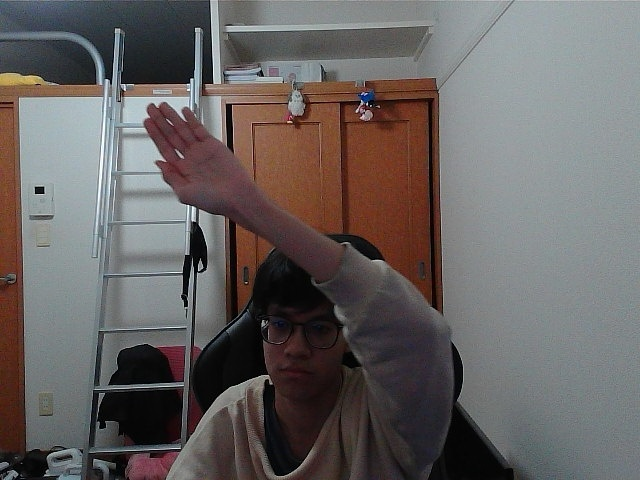open_palm: (148, 107, 235, 204)
